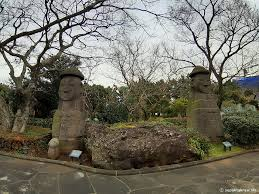Stone Statue: (39, 66, 98, 168), (182, 60, 235, 153)
